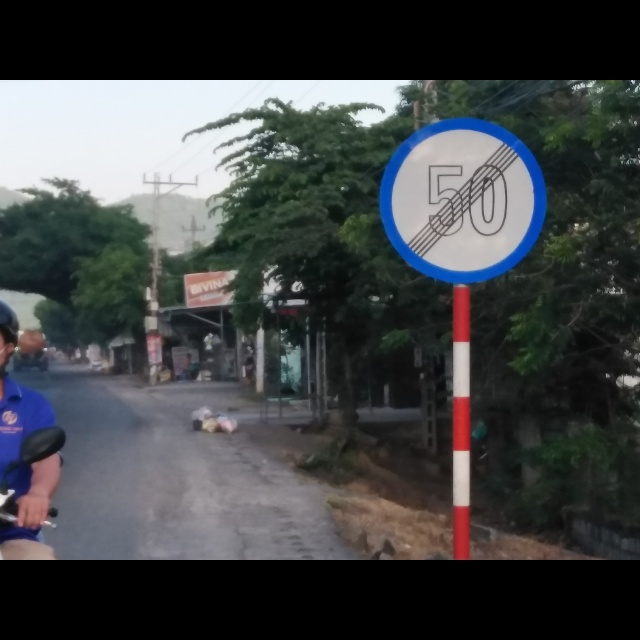Hết hạn chế tốc độ tối đa 50km/h: (374, 113, 546, 288)
